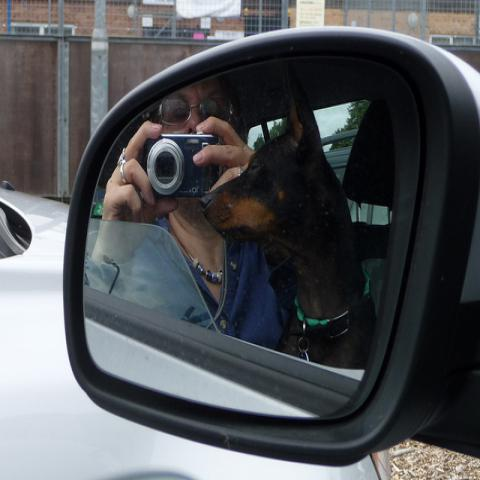car: (0, 184, 390, 476)
